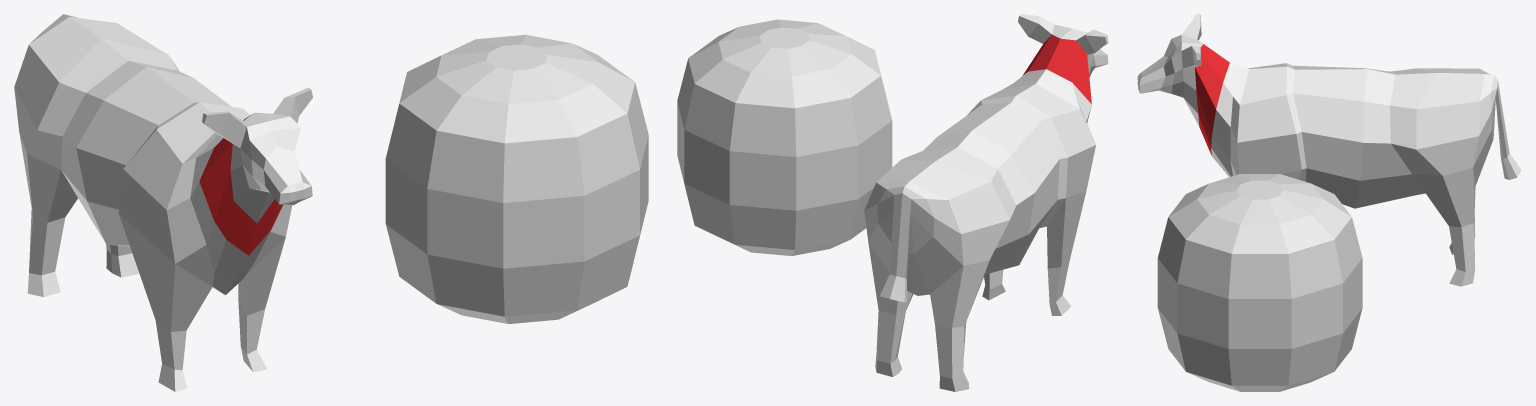
Rendered from Bowling_Assets_v1.fbx.
3 views of the same model, side by side, from view 1: azimuth 30°, elevation 25°; view 2: azimuth 150°, elevation 25°; view 3: azimuth 270°, elevation 25° (orthographic). The views are drawn at different scales.
Visible parts, largest first — view 1: Bowling_Haybale_1, Bowling_Cow_BowlingPin_1; view 2: Bowling_Cow_BowlingPin_1, Bowling_Haybale_1; view 3: Bowling_Cow_BowlingPin_1, Bowling_Haybale_1.
Boxes of the visible parts, x1,y1,x2,y2 form: Bowling_Haybale_1: [385, 34, 648, 323]; Bowling_Cow_BowlingPin_1: [14, 14, 312, 391]; Bowling_Cow_BowlingPin_1: [864, 14, 1108, 391]; Bowling_Haybale_1: [677, 19, 892, 255]; Bowling_Cow_BowlingPin_1: [1137, 14, 1521, 286]; Bowling_Haybale_1: [1157, 174, 1362, 391].
Size of the model in its own units: 336 by 202 by 301.
